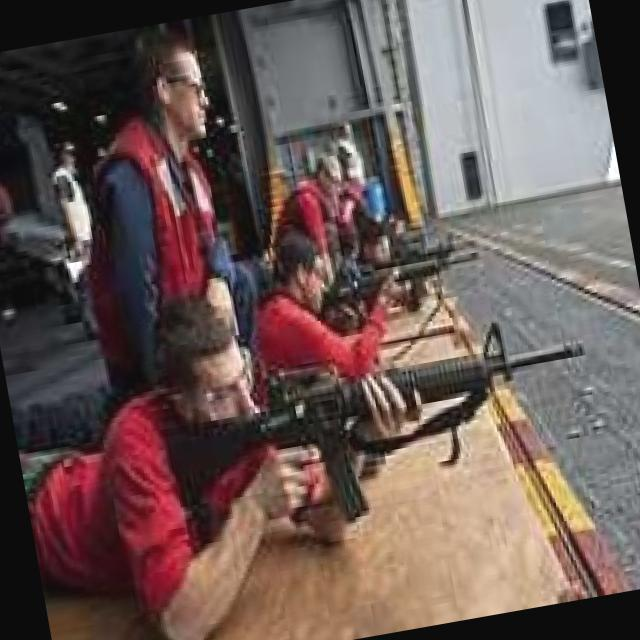long weapon: (262, 290, 610, 512), (319, 232, 496, 324)
